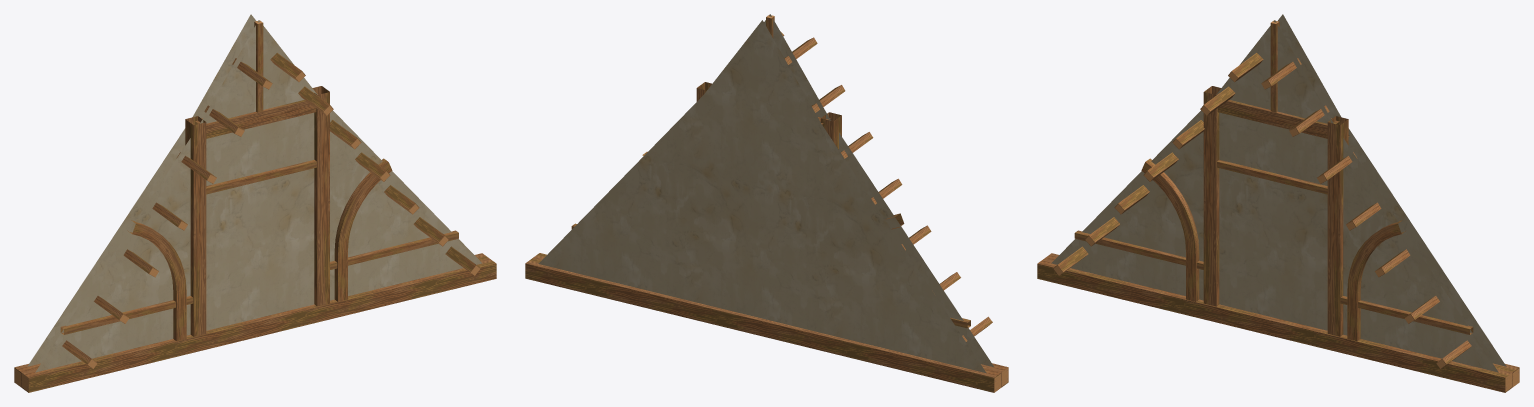
File: Roof_Front_Brick8.gltf
The picture shows the model from 3 angles, left to right: view 1: azimuth 30°, elevation 25°; view 2: azimuth 150°, elevation 25°; view 3: azimuth 330°, elevation 25°; orthographic projection.
Visible parts, largest first — view 1: Roof_Front_Brick8; view 2: Roof_Front_Brick8; view 3: Roof_Front_Brick8.
Boxes of the visible parts, x1=… form: Roof_Front_Brick8: x1=14, y1=14, x2=496, y2=392; Roof_Front_Brick8: x1=525, y1=14, x2=1008, y2=392; Roof_Front_Brick8: x1=1037, y1=14, x2=1519, y2=392.
Bounding box in the file's own units: 8.51 × 5.45 × 1.13.
Materials: 2 (2 with a texture image).
